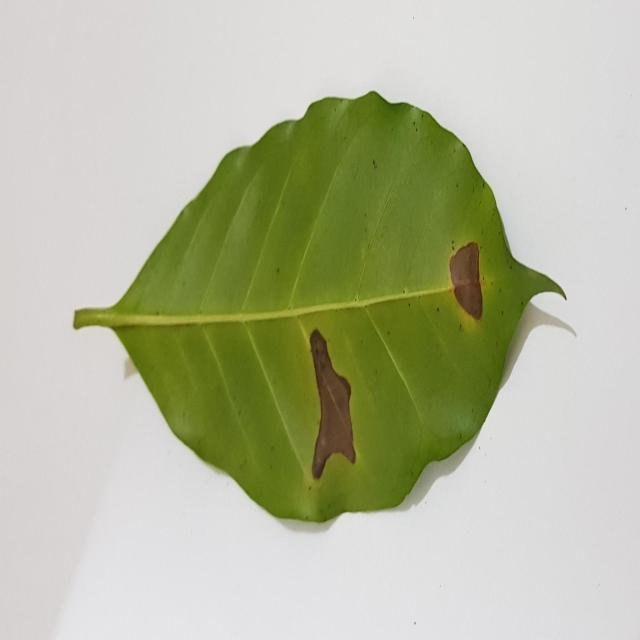miner: (309, 330, 356, 479), (449, 241, 483, 320)
